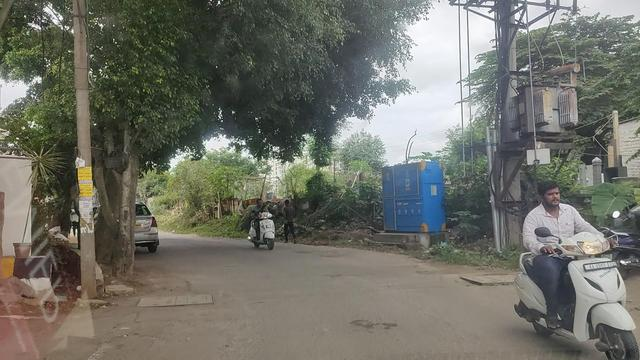LMV: (535, 180, 627, 360)
RoadDamages: (121, 285, 216, 320), (345, 316, 407, 346)
